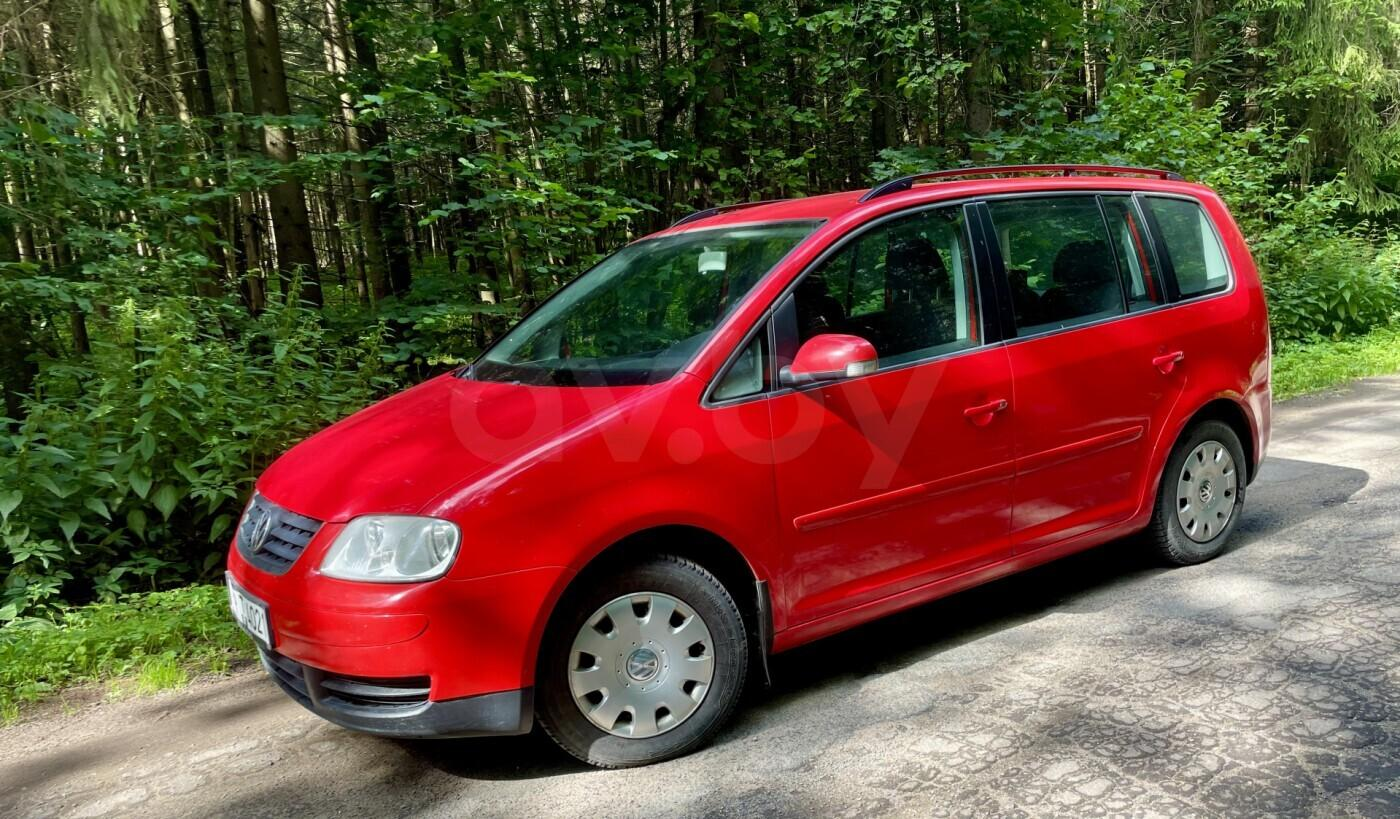Touran_2003-2006: (219, 168, 1279, 762)
